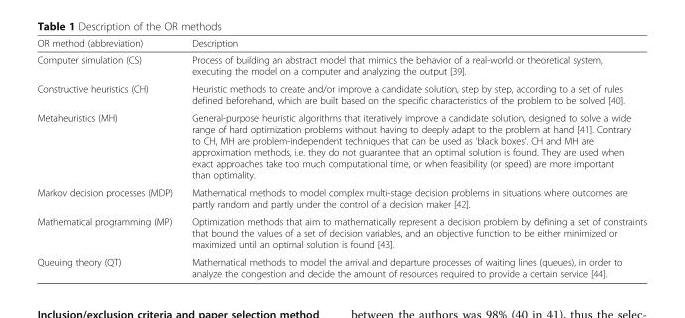table: (36, 37, 646, 278)
table column: (181, 37, 646, 278), (36, 37, 181, 278)
table column header: (36, 37, 646, 51)
table row: (36, 108, 646, 183), (36, 212, 646, 252), (36, 79, 646, 108), (36, 183, 646, 212), (36, 51, 646, 79), (36, 252, 646, 278), (36, 37, 646, 51)
